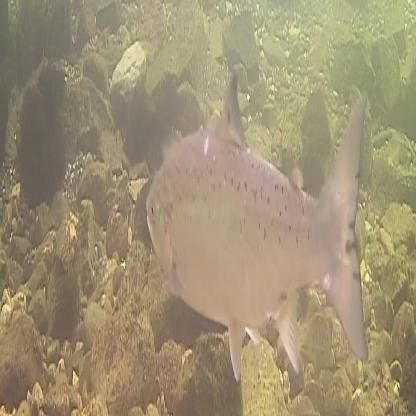salmon: (143, 65, 372, 385)
